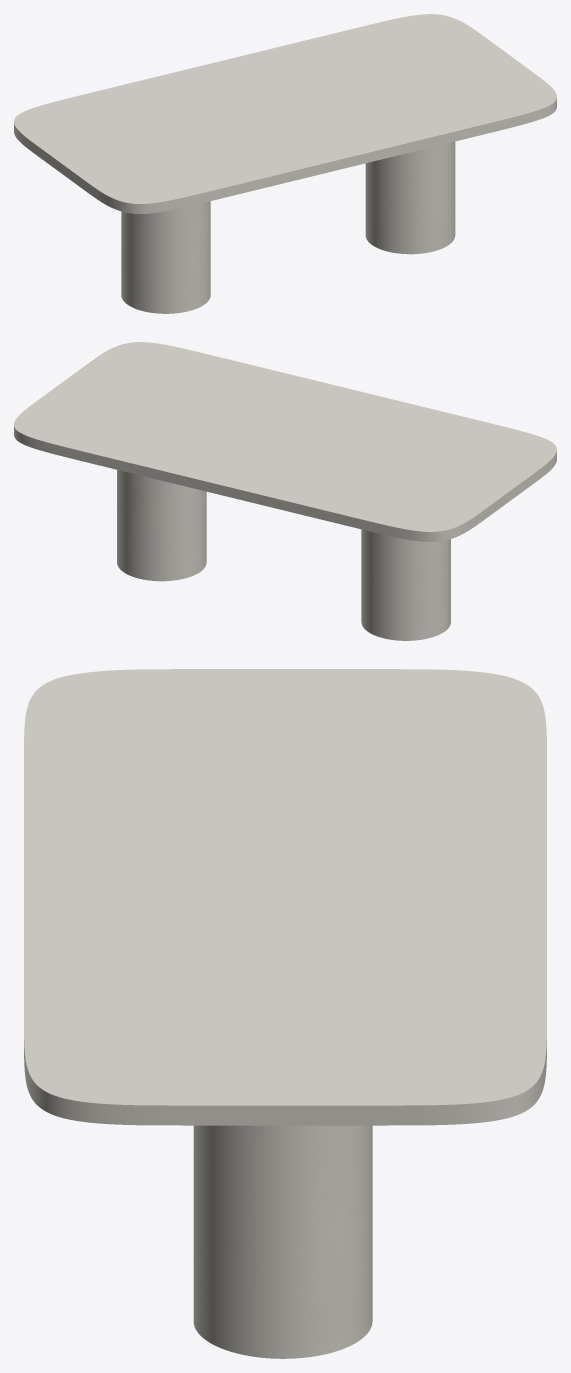
The model's file is pale_softrecta_standard_stream.glb.
The picture shows the model from 3 angles, top to bottom: view 1: azimuth 30°, elevation 25°; view 2: azimuth 150°, elevation 25°; view 3: azimuth 270°, elevation 25°; orthographic projection. The views are drawn at different scales.
Parts seen in each view (by area): view 1: standard_softrecta, stream; view 2: standard_softrecta, stream; view 3: standard_softrecta, stream.
Part boxes in pixels (left/top/right/bottom): standard_softrecta: left=14, top=14, right=556, bottom=213; stream: left=121, top=141, right=455, bottom=313; standard_softrecta: left=14, top=342, right=556, bottom=541; stream: left=117, top=470, right=450, bottom=640; standard_softrecta: left=24, top=669, right=546, bottom=1125; stream: left=193, top=1125, right=372, bottom=1358.
Size of the model in its own units: 7.5 by 2.5 by 3.8.
1 material, 1 textured.
